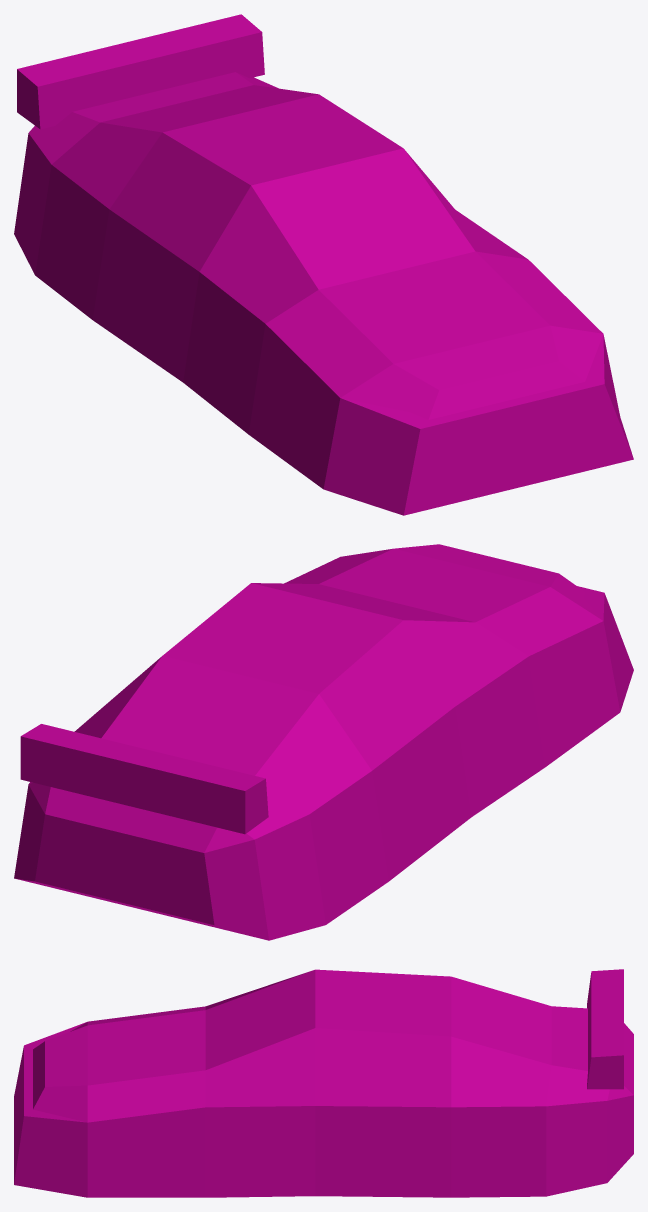
File: SM_Veh_Stock_Car_01_Preset_02_Collision.fbx
3 views of the same model, one above another, from view 1: azimuth 30°, elevation 25°; view 2: azimuth 150°, elevation 25°; view 3: azimuth 270°, elevation 25° (orthographic). The views are drawn at different scales.
Parts seen in each view (by area): view 1: SM_Veh_Stock_Car_01_Preset_02_Collision; view 2: SM_Veh_Stock_Car_01_Preset_02_Collision; view 3: SM_Veh_Stock_Car_01_Preset_02_Collision.
Part boxes in pixels (x1,y1,x2,y2): SM_Veh_Stock_Car_01_Preset_02_Collision: (14, 14, 633, 515); SM_Veh_Stock_Car_01_Preset_02_Collision: (14, 544, 633, 940); SM_Veh_Stock_Car_01_Preset_02_Collision: (14, 969, 633, 1197).
Bounding box in the file's own units: 237 × 138 × 546.
